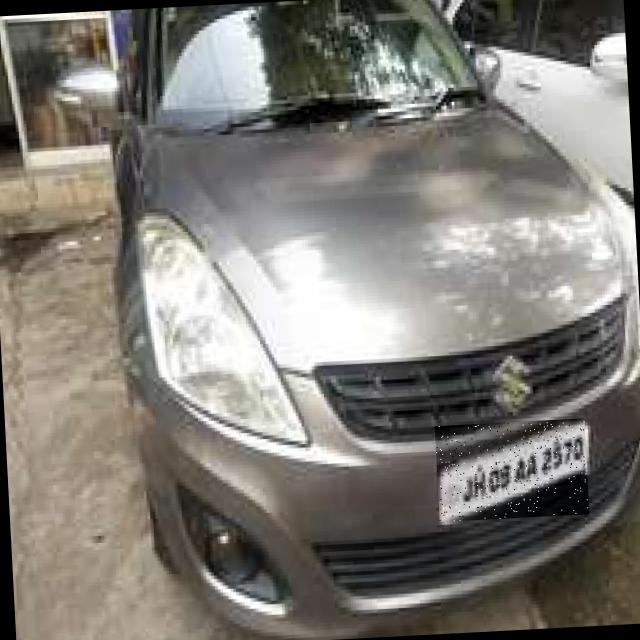Plate: (436, 419, 591, 523)
